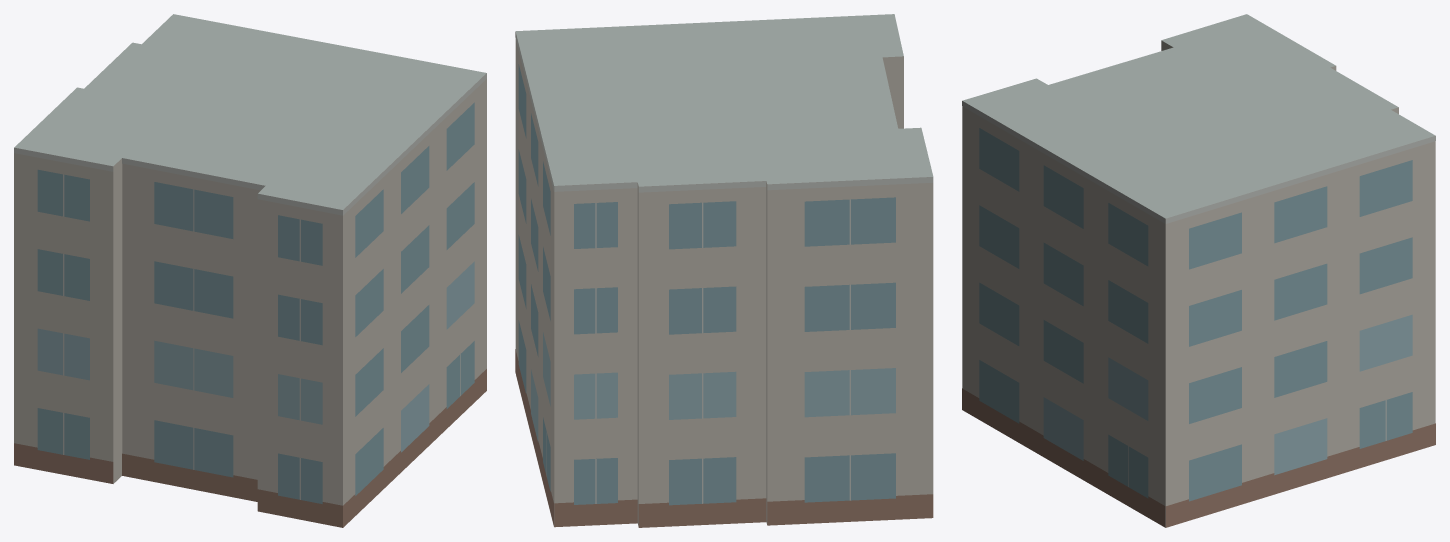
File: survey-upis-32907716.glb
3 renders of one model, left to right at view 1: azimuth 30°, elevation 25°; view 2: azimuth 150°, elevation 25°; view 3: azimuth 270°, elevation 25°, orthographic. The views are drawn at different scales.
Visible parts, largest first — view 1: survey-upis-32907716.tmp; view 2: survey-upis-32907716.tmp; view 3: survey-upis-32907716.tmp.
Part boxes in pixels (x1,y1,x2,y2): survey-upis-32907716.tmp: (14, 14, 486, 527); survey-upis-32907716.tmp: (515, 14, 933, 527); survey-upis-32907716.tmp: (962, 14, 1435, 527).
Size of the model in its own units: 19.74 by 13.9 by 19.3.
